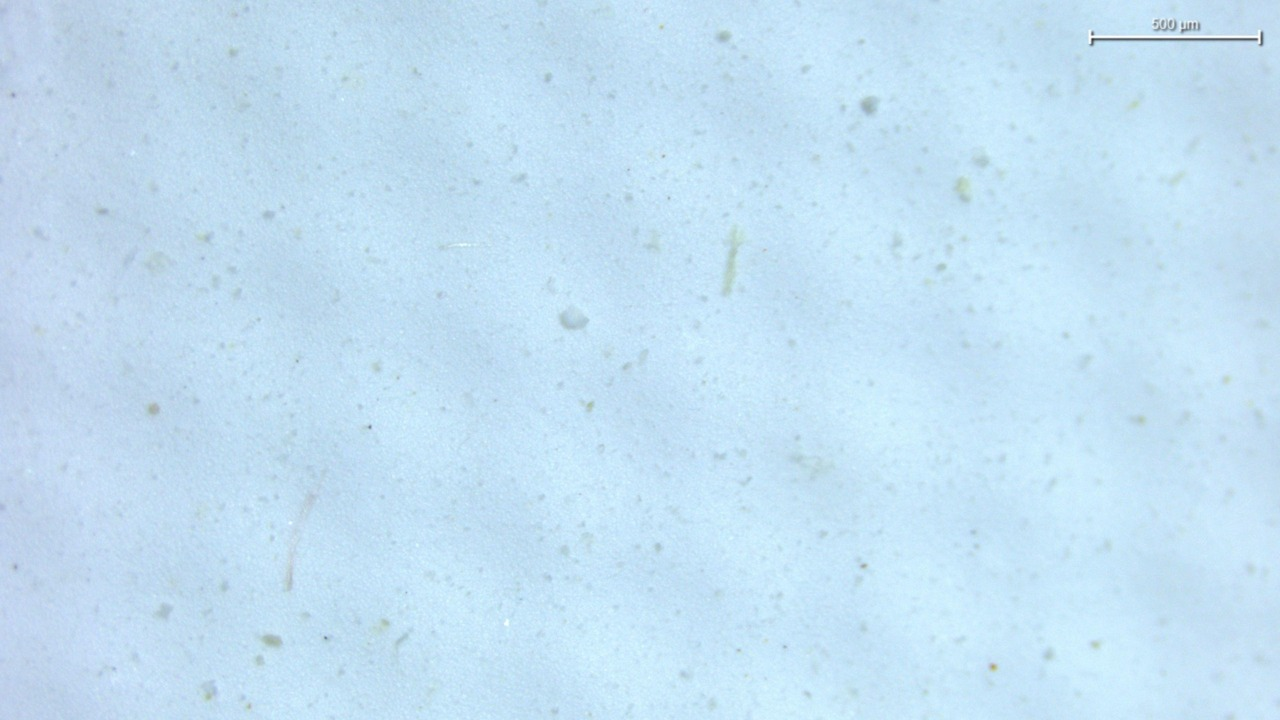microplastic_fragment: (558, 304, 589, 329)
